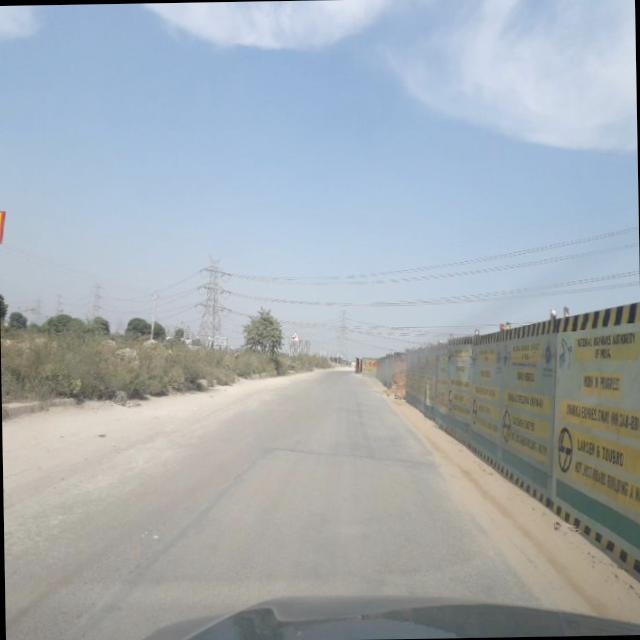pothole: (77, 466, 250, 620)
